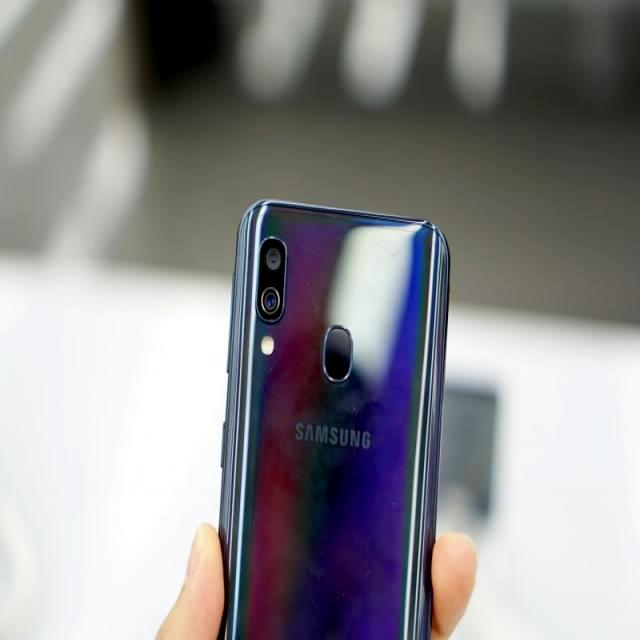lens_back: (258, 283, 287, 321), (260, 240, 286, 278)
phone: (214, 194, 456, 640)
